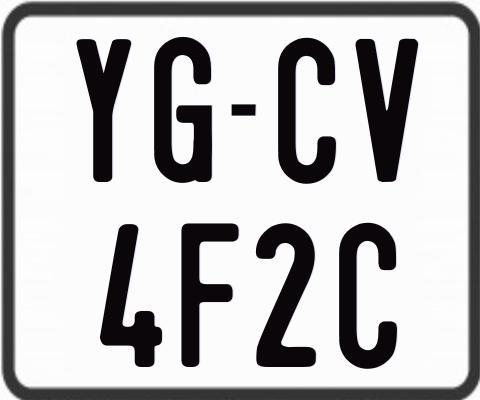2: (254, 223, 314, 370)
4: (97, 222, 162, 371)
C: (278, 35, 340, 181), (339, 223, 400, 370)
F: (181, 220, 241, 367)
G: (152, 35, 212, 184)
V: (356, 36, 423, 185)
Y: (77, 38, 133, 184)
